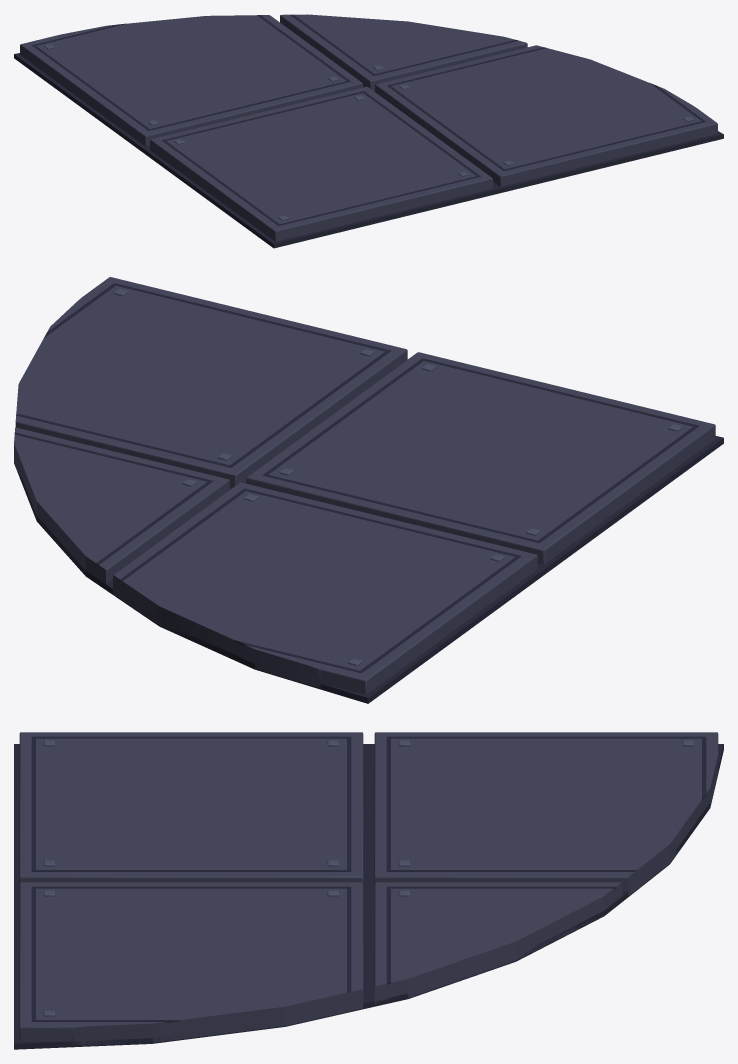
Rendered from floor.arc2.plate.glb.
3 renders of one model, top to bottom at view 1: azimuth 30°, elevation 25°; view 2: azimuth 150°, elevation 25°; view 3: azimuth 270°, elevation 25°, orthographic. The views are drawn at different scales.
Parts seen in each view (by area): view 1: GEO-floor.arc2.plate; view 2: GEO-floor.arc2.plate; view 3: GEO-floor.arc2.plate.
Boxes of the visible parts, x1=… form: GEO-floor.arc2.plate: x1=14, y1=14, x2=723, y2=248; GEO-floor.arc2.plate: x1=14, y1=277, x2=723, y2=703; GEO-floor.arc2.plate: x1=14, y1=732, x2=723, y2=1049.
Size of the model in its own units: 2 by 0.069 by 2.
